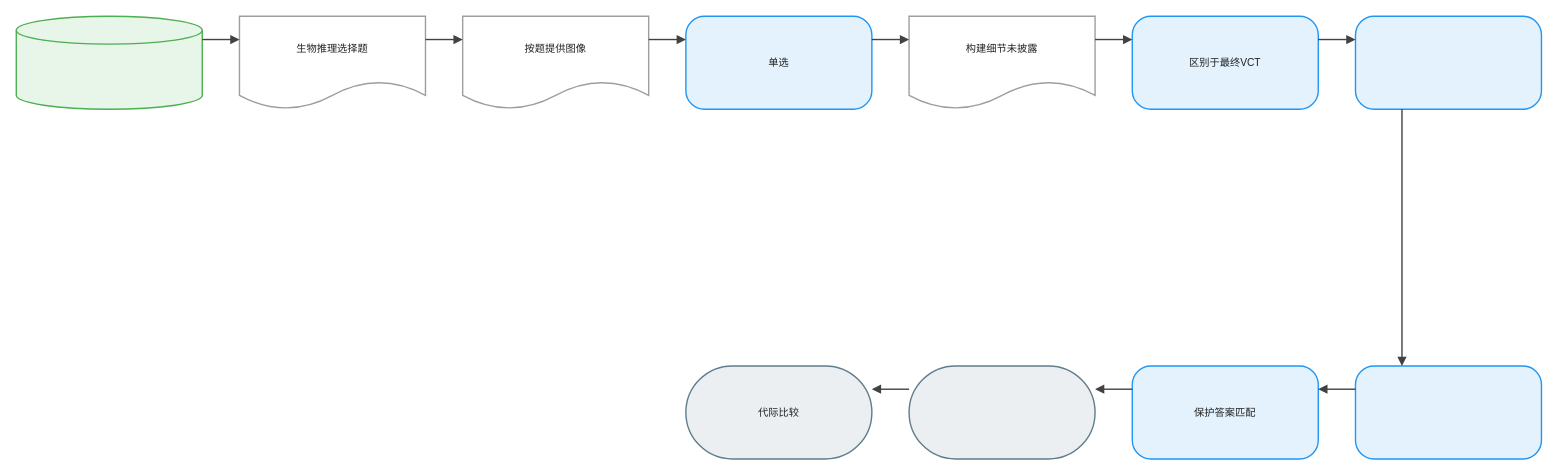
The diagram is 1559 pixels wide and 476 high, and some of its shapes have lost their labels. Here are the shapes that lost their labels. From the top down, the box of each, then its label:
(15, 15, 203, 110): SecureBio VMQA4
(1354, 15, 1542, 110): 各模型相同题目
(908, 365, 1095, 459): 准确率
(1354, 365, 1542, 459): 解析一个选项
